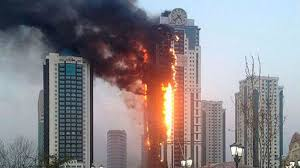fire: (134, 42, 183, 162)
